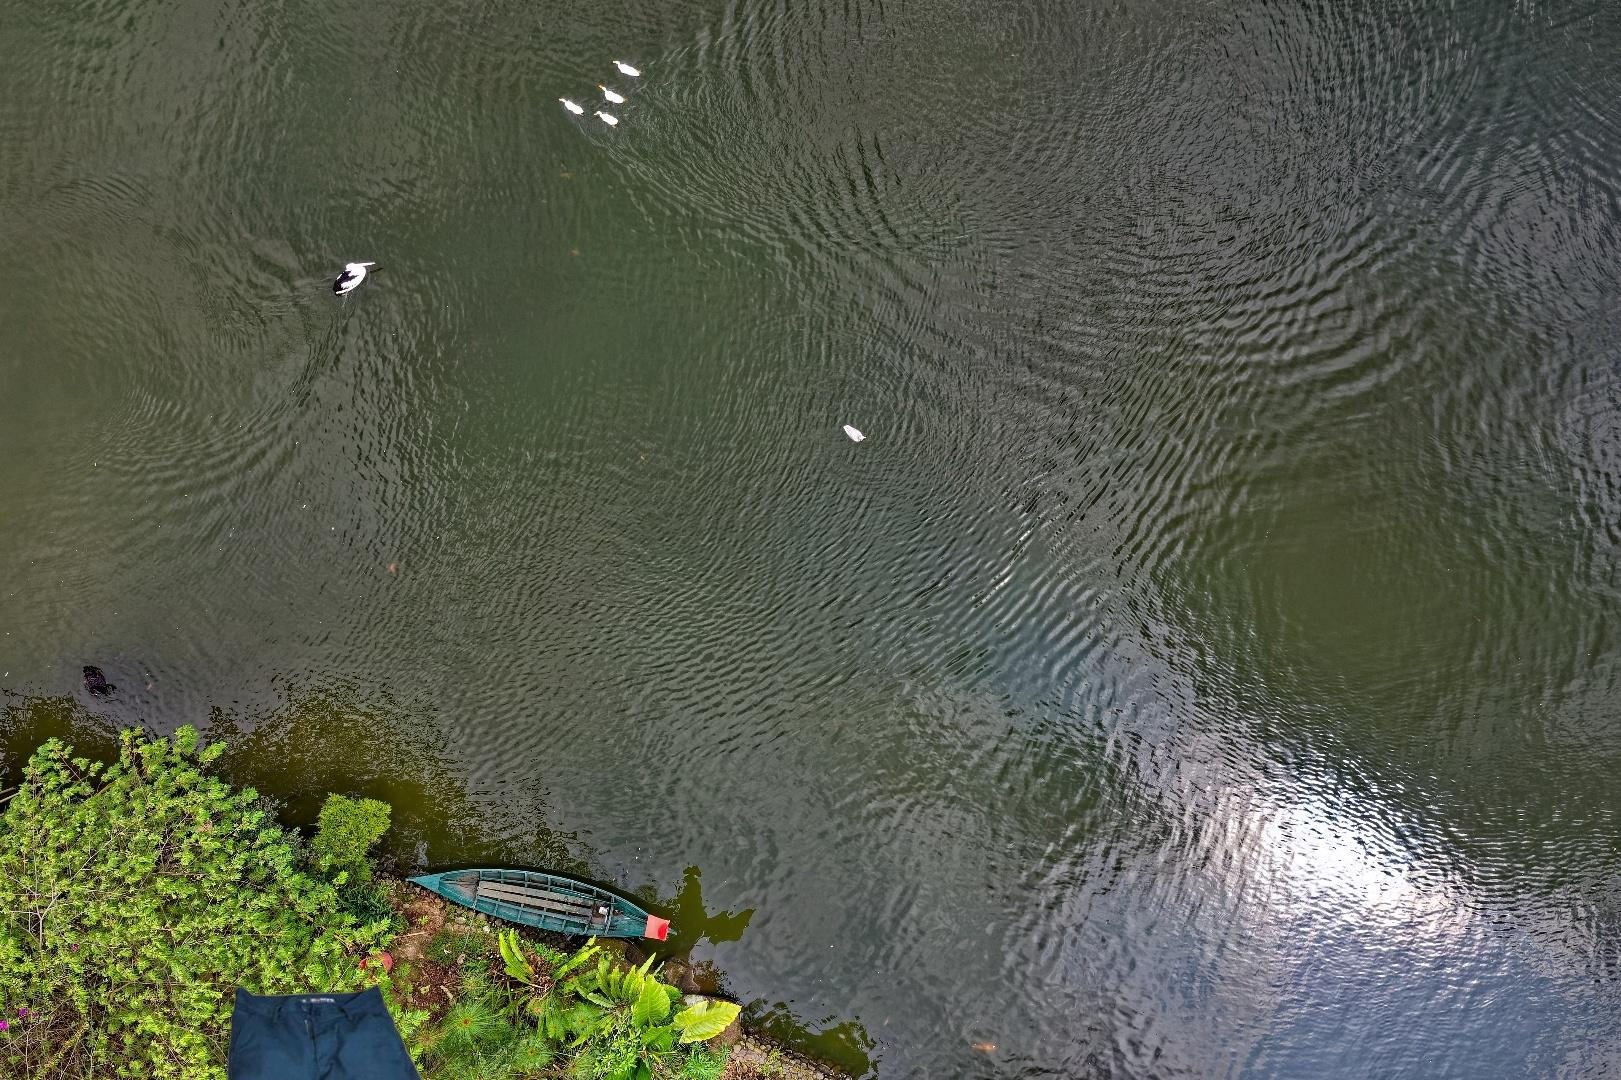clothes: (215, 980, 533, 1080)
